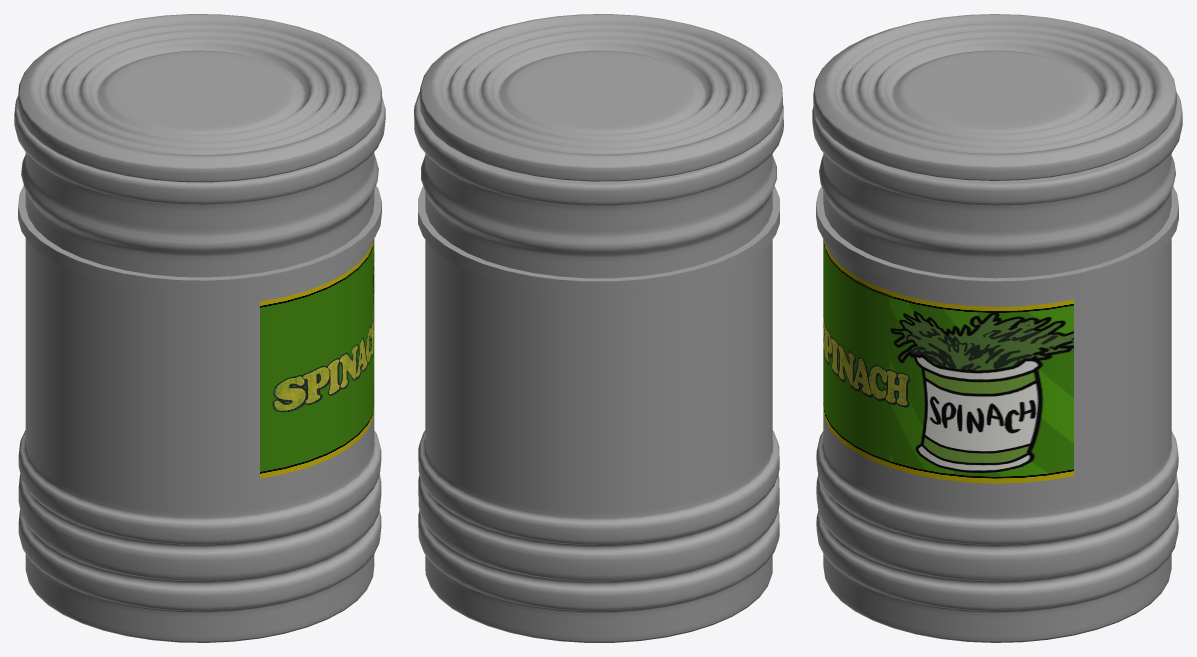
File: SpinachCan.fbx
3 renders of one model, left to right at view 1: azimuth 30°, elevation 25°; view 2: azimuth 150°, elevation 25°; view 3: azimuth 270°, elevation 25°, orthographic.
Parts seen in each view (by area): view 1: Can, Lid; view 2: Can, Lid; view 3: Can, Lid.
Part boxes in pixels (x1,y1,x2,y2): Can: [14, 96, 385, 642]; Lid: [18, 14, 381, 182]; Can: [414, 92, 783, 642]; Lid: [419, 14, 782, 181]; Can: [812, 92, 1182, 642]; Lid: [813, 14, 1176, 180].
Bounding box in the file's own units: 3.82 × 5.53 × 3.82.
Materials: 2 (1 with a texture image).
